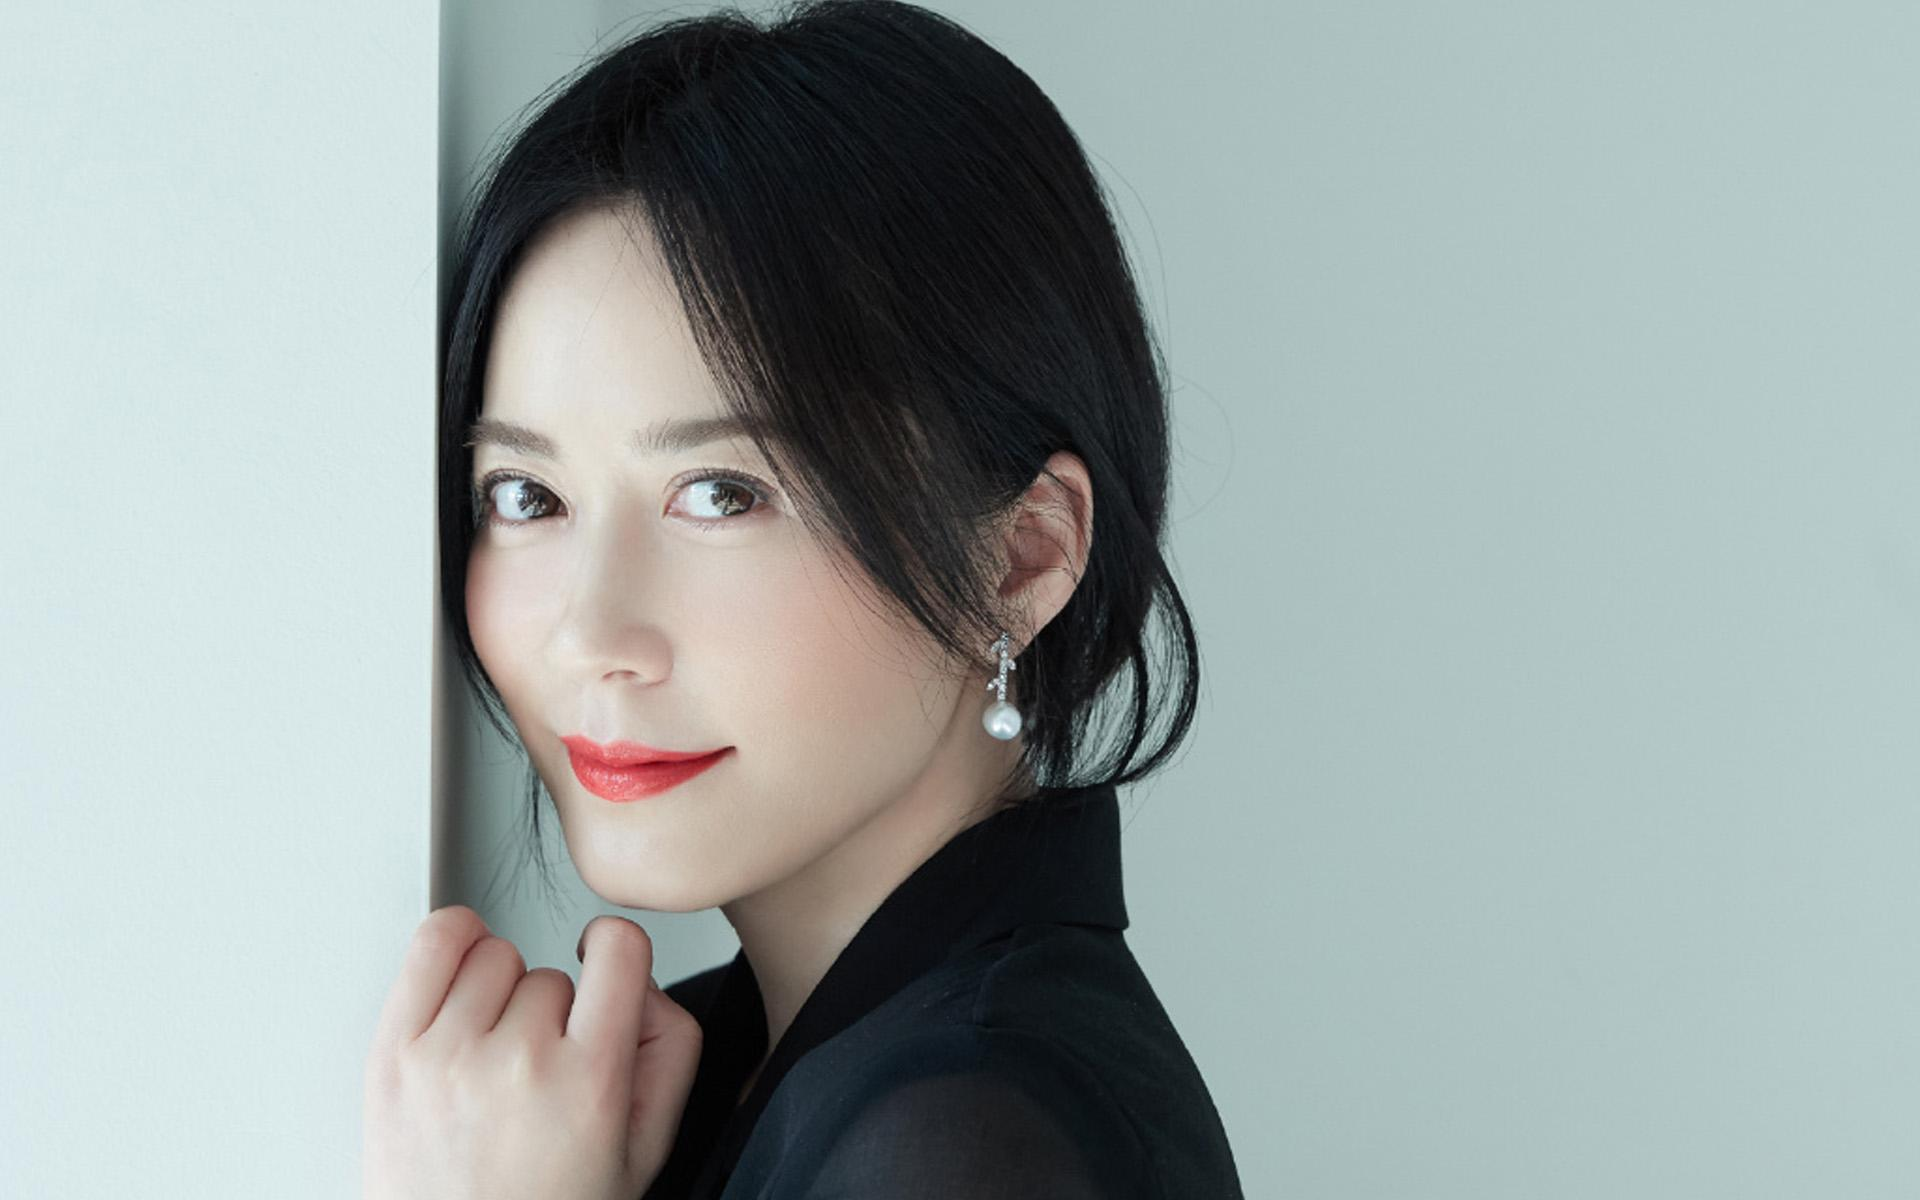person: (475, 26, 1211, 1015)
